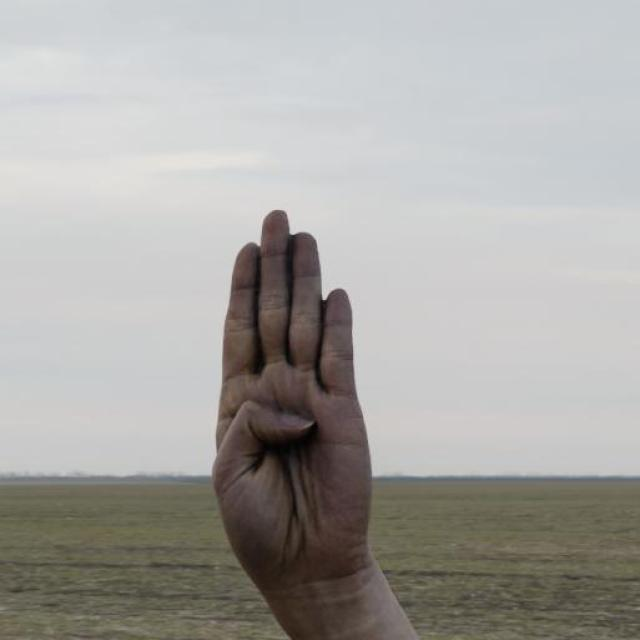B: (209, 205, 384, 567)
